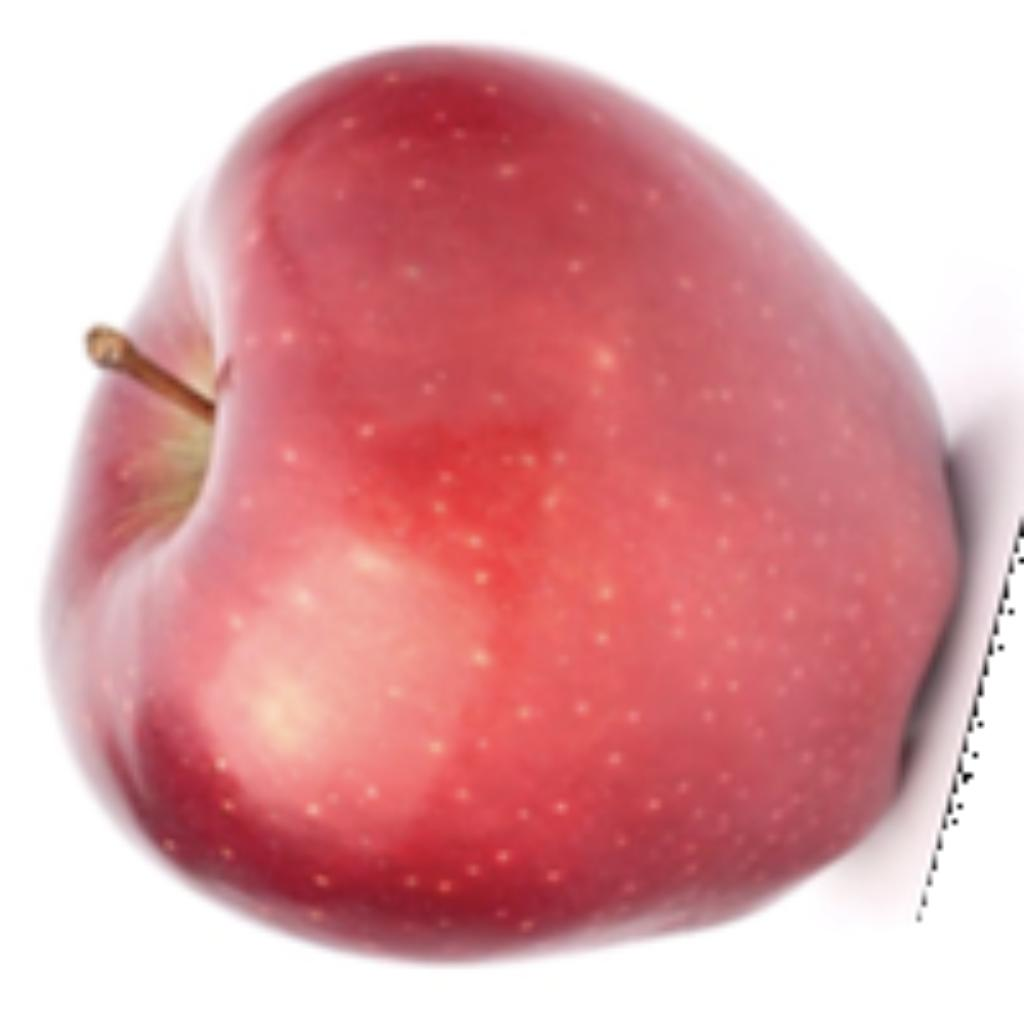apple: (31, 36, 1019, 968)
